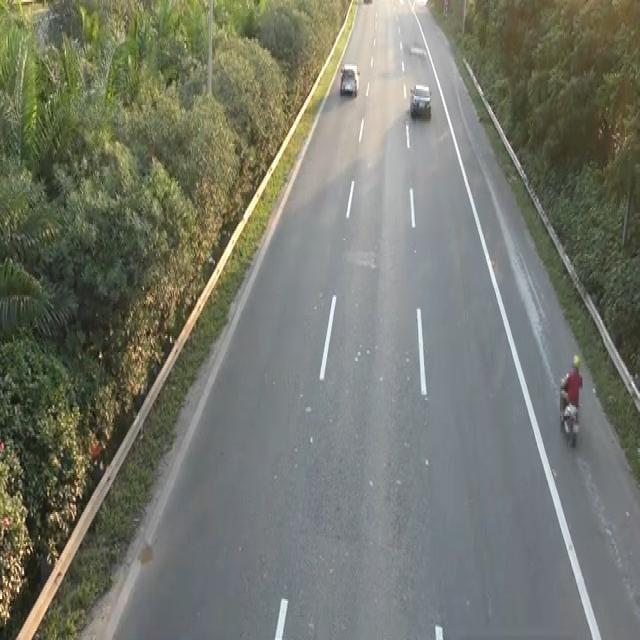bus: (407, 80, 435, 124), (338, 60, 360, 98)
minibus: (557, 375, 581, 448)
